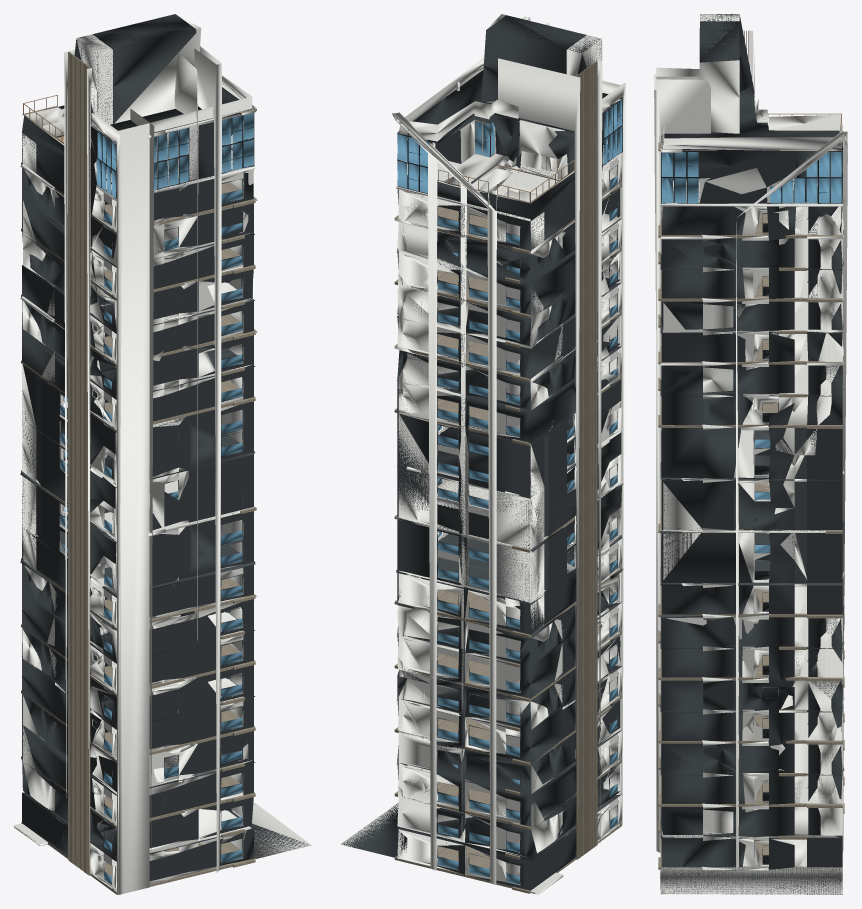
Rendered from flow-facade.glb.
3 views of the same model, side by side, from view 1: azimuth 30°, elevation 25°; view 2: azimuth 150°, elevation 25°; view 3: azimuth 270°, elevation 25° (orthographic). The views are drawn at different scales.
Bounding box in the file's own units: 21 × 81.13 × 18.
Materials: 13 (6 with a texture image).
